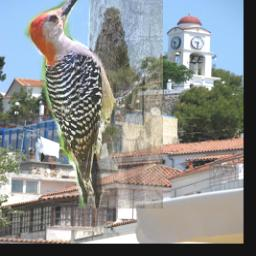Woodpecker: (19, 0, 162, 210)
